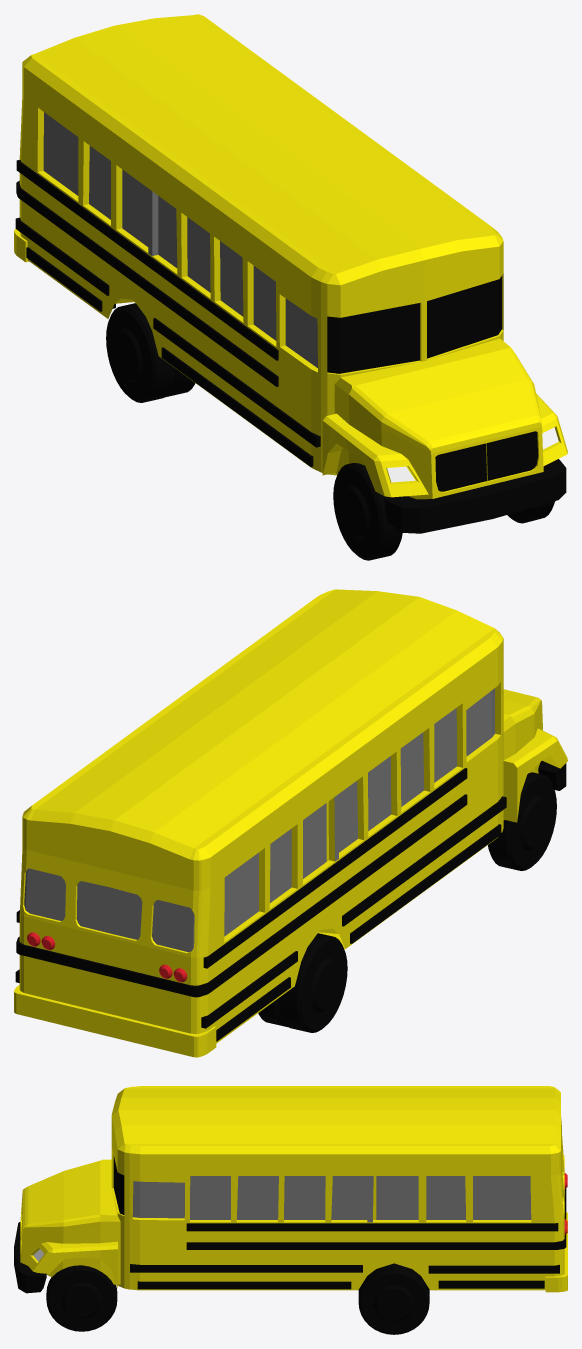
Rendered from Автобус.fbx.
3 renders of one model, top to bottom at view 1: azimuth 30°, elevation 25°; view 2: azimuth 150°, elevation 25°; view 3: azimuth 270°, elevation 25°, orthographic. The views are drawn at different scales.
Parts seen in each view (by area): view 1: Cube; view 2: Cube; view 3: Cube.
Boxes of the visible parts, <box> form: Cube: <box>14,14,567,560</box>; Cube: <box>14,589,567,1057</box>; Cube: <box>14,1086,567,1334</box>.
Bounding box in the file's own units: 95.22 × 121 × 317.
